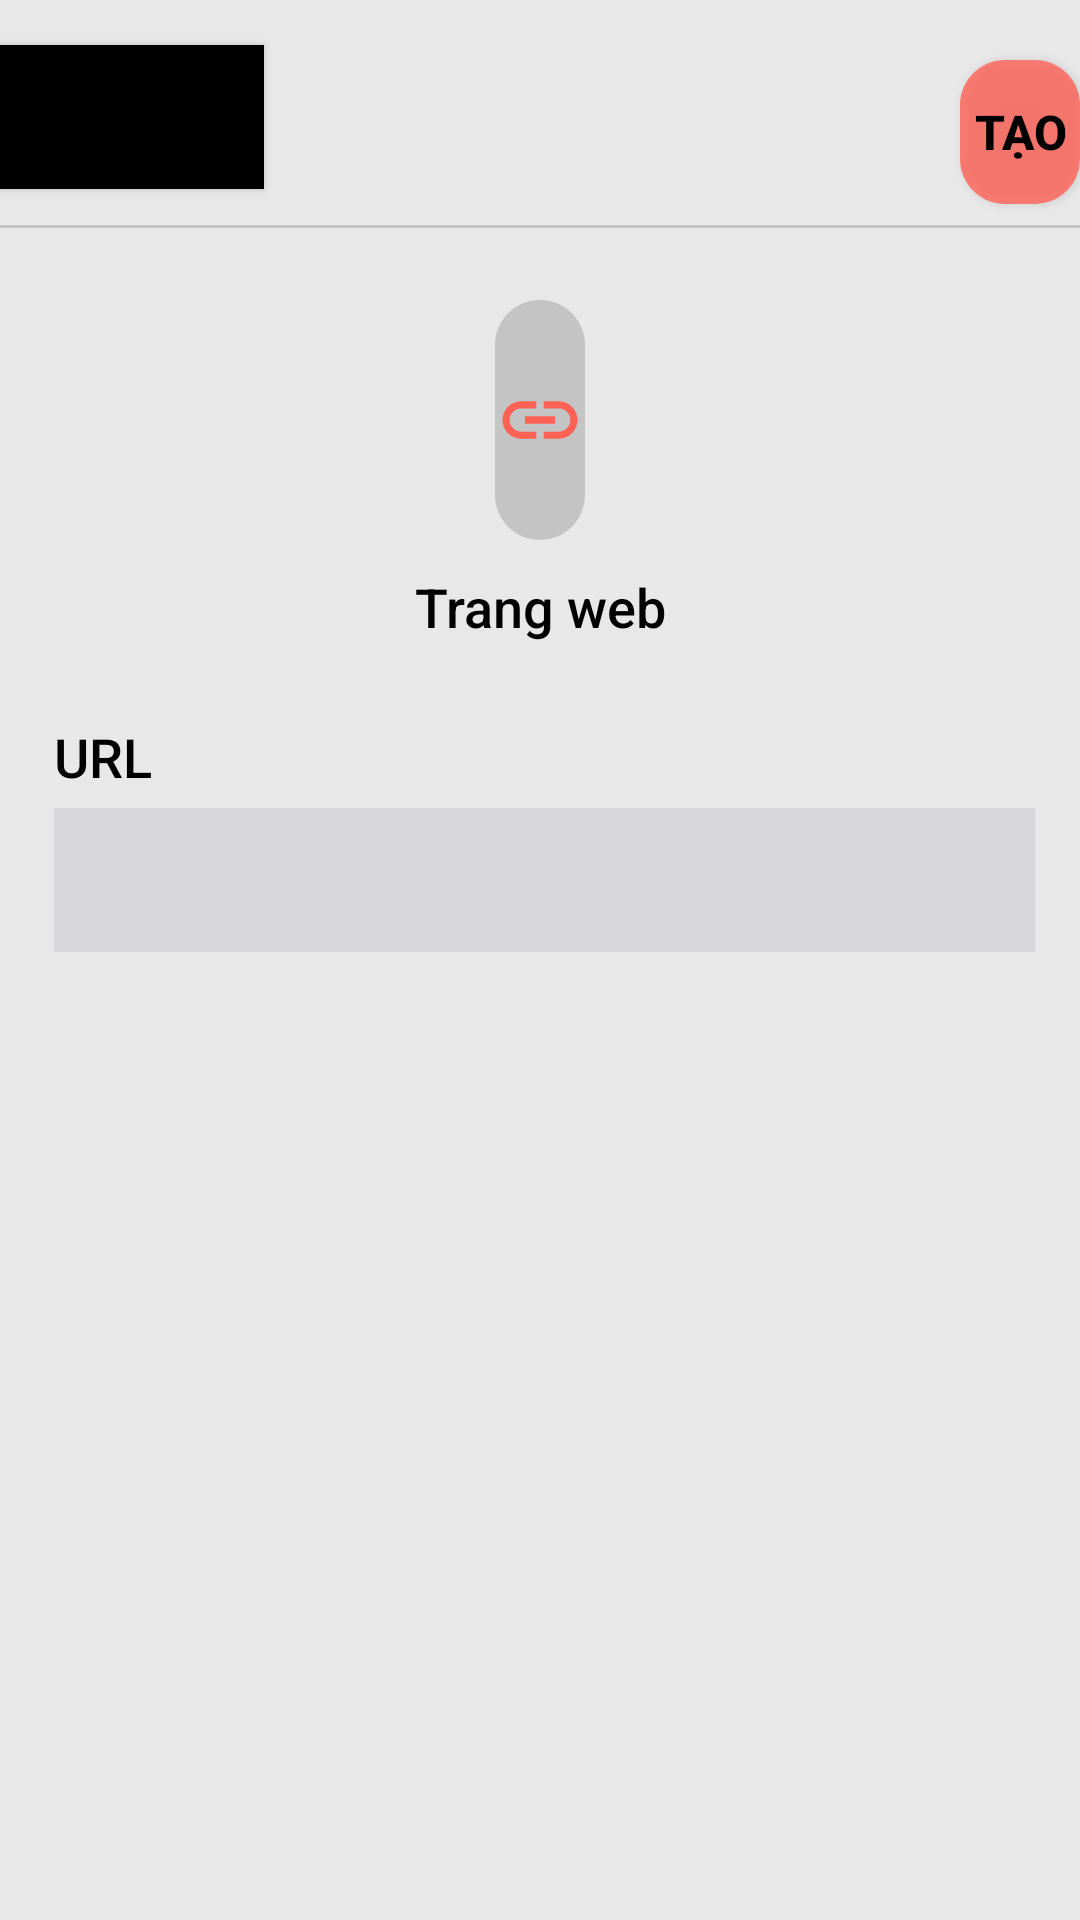

Icon bounding boxes for this 1080×1920 phone screenshot, format bbox=[x1, y1, x2, y2]:
link: bbox=[502, 401, 578, 439]
